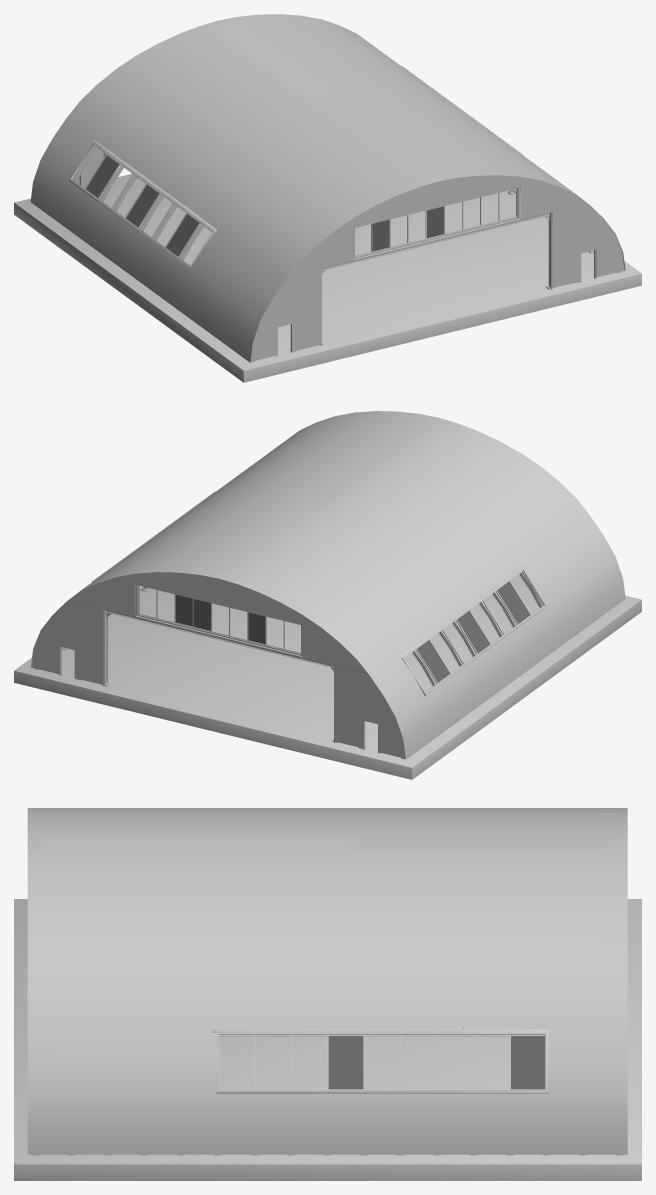
File: SM_hangar.fbx
3 views of the same model, one above another, from view 1: azimuth 30°, elevation 25°; view 2: azimuth 150°, elevation 25°; view 3: azimuth 270°, elevation 25° (orthographic). The views are drawn at different scales.
Parts seen in each view (by area): view 1: SM_Hangar_LOD0; view 2: SM_Hangar_LOD0; view 3: SM_Hangar_LOD0.
Part boxes in pixels (x1=…): SM_Hangar_LOD0: x1=14, y1=14, x2=641, y2=382; SM_Hangar_LOD0: x1=14, y1=411, x2=641, y2=779; SM_Hangar_LOD0: x1=14, y1=808, x2=641, y2=1180.
Size of the model in its own units: 3441 by 1233 by 3440.
